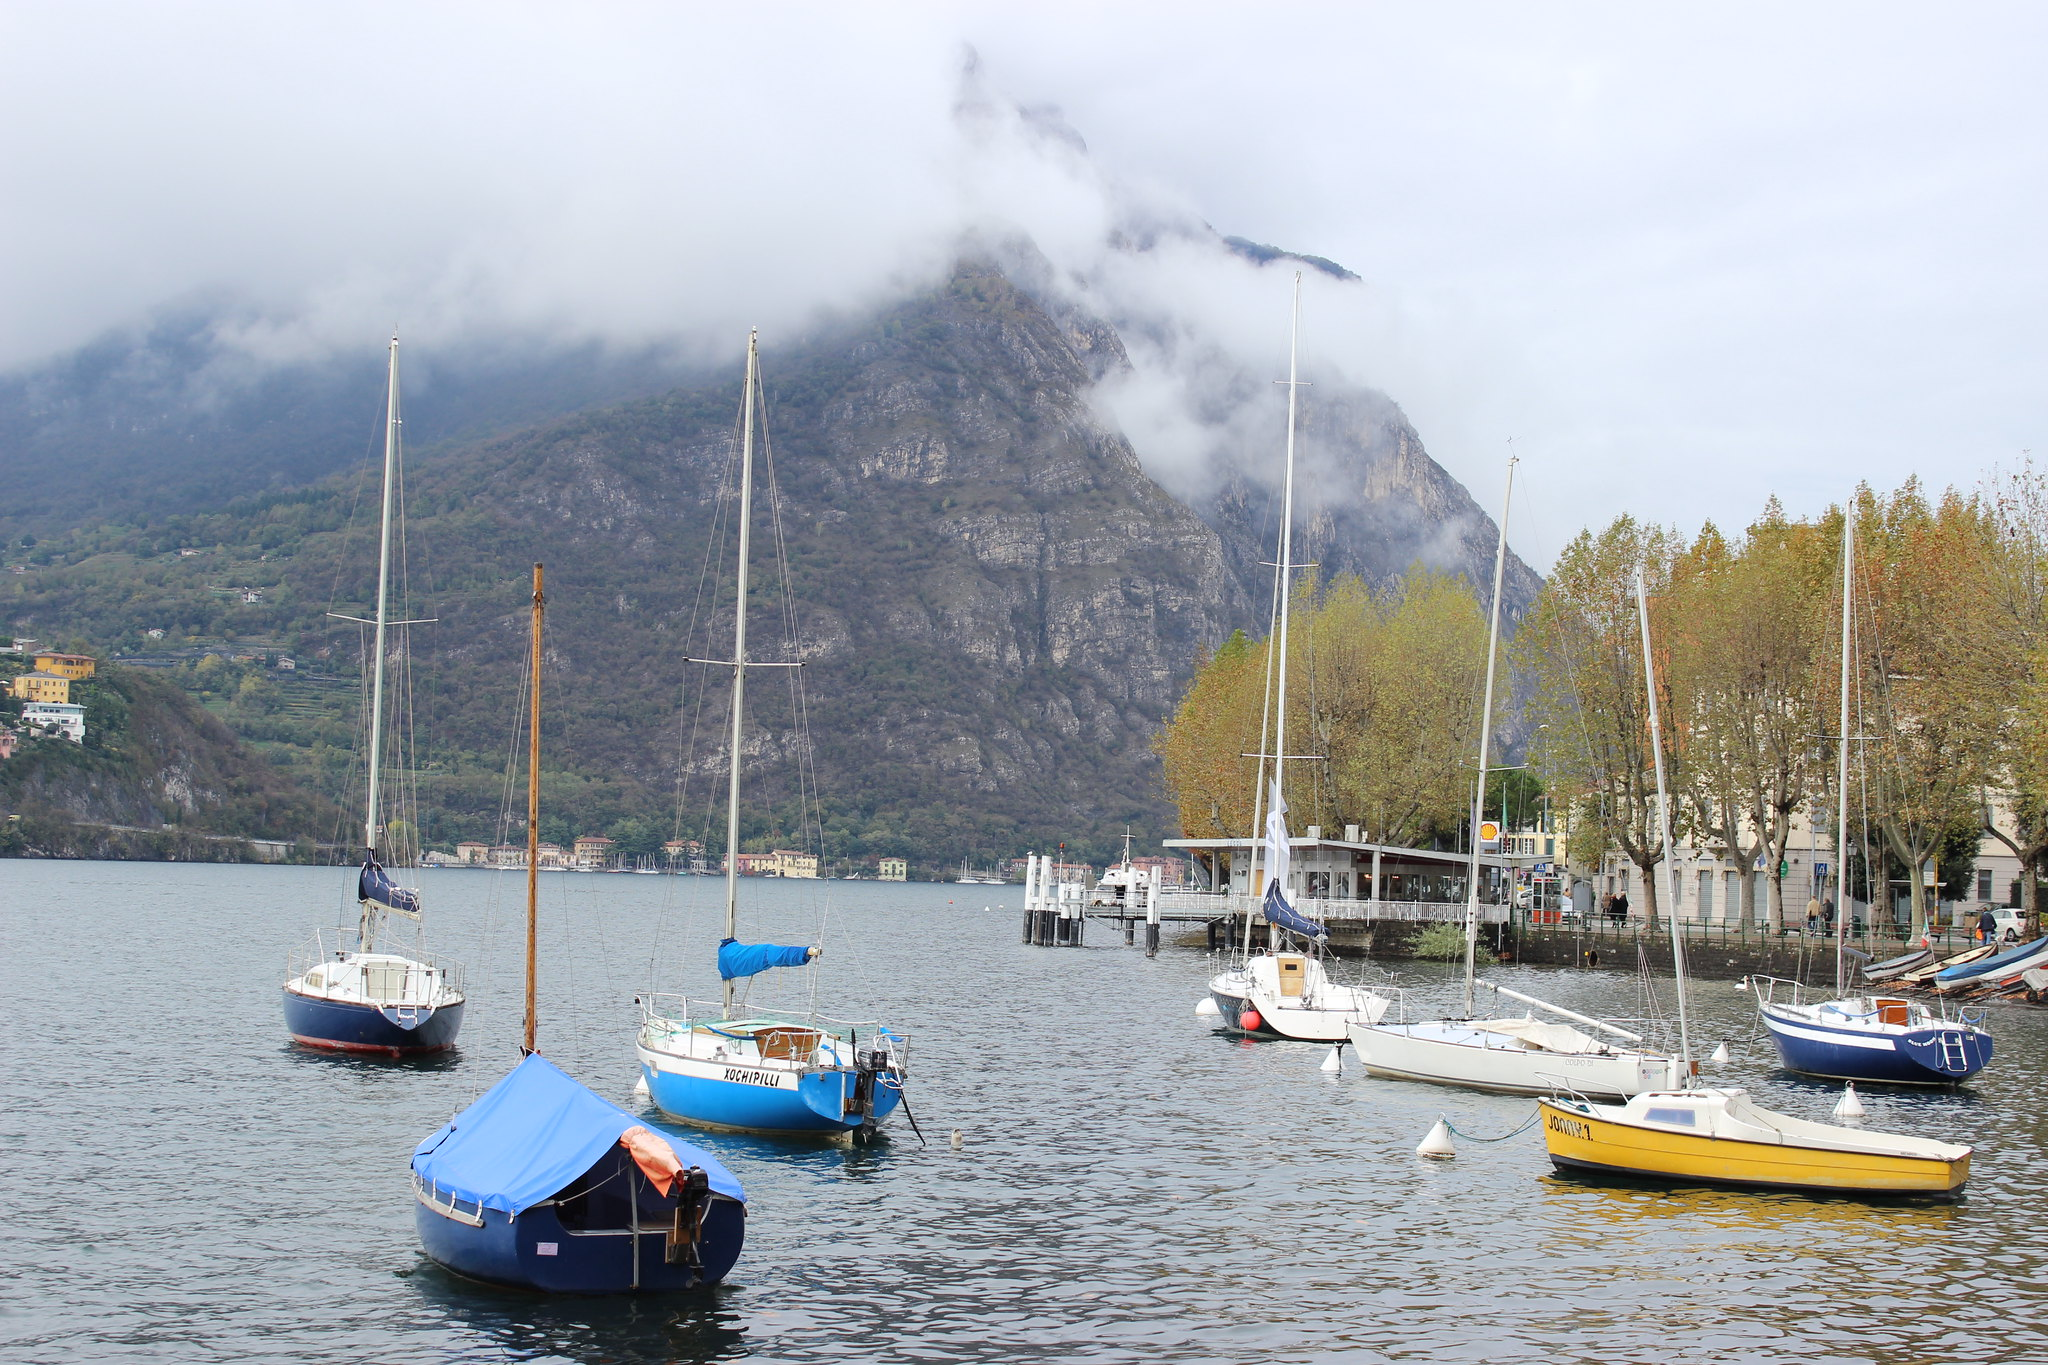boat: (423, 565, 751, 1289), (665, 337, 924, 1156), (1389, 456, 1704, 1115), (1197, 273, 1393, 1047), (1751, 507, 1992, 1092), (297, 328, 460, 1057), (1533, 1072, 1983, 1222)
